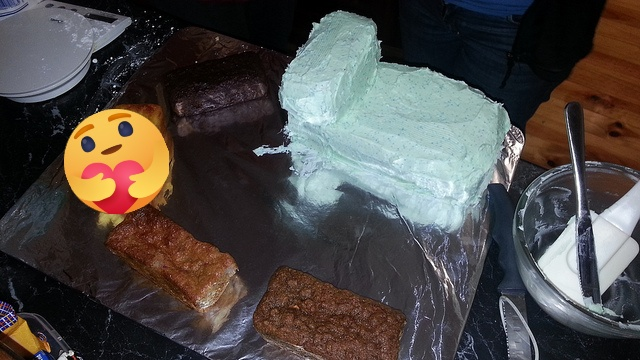care: (64, 109, 169, 214)
